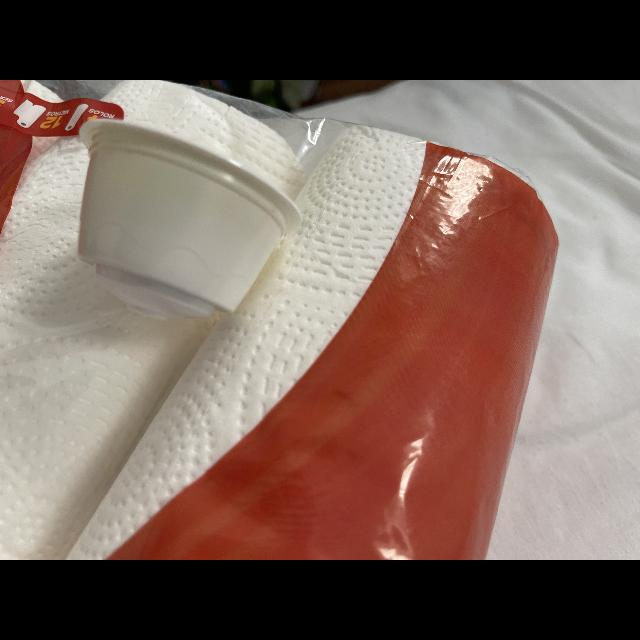intact_capsule: (68, 104, 304, 330)
